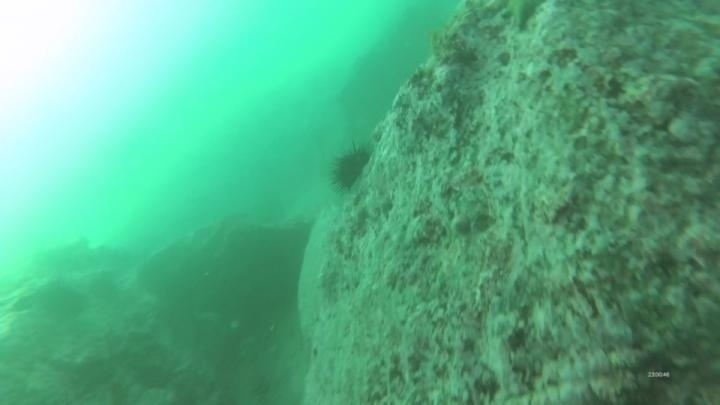echinus: (327, 141, 374, 193)
